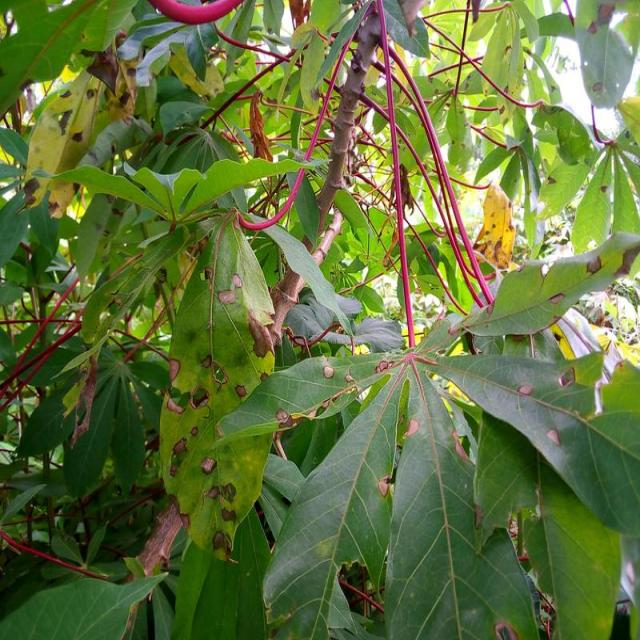cassava leaf: (1, 0, 638, 638), (382, 357, 540, 638), (158, 209, 278, 561)
